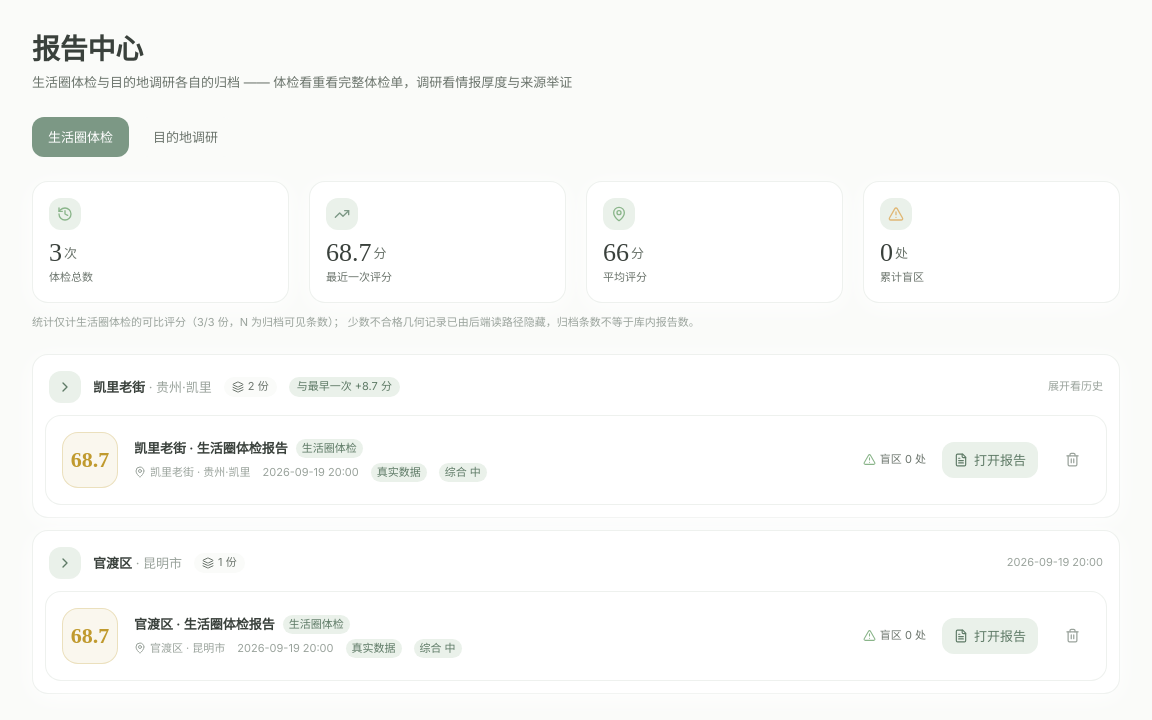
Test case: 报告中心 · tab 条 › 切到调研 tab → 出该屏独有内容，且生活圈一行都不剩（两屏不共用一份 records）
Expected: the button "凯里老街 · 生活圈体检报告" is shown, [134, 438, 288, 459]
Click the tab "目的地调研".
click(186, 137)  # box [137, 117, 234, 157]
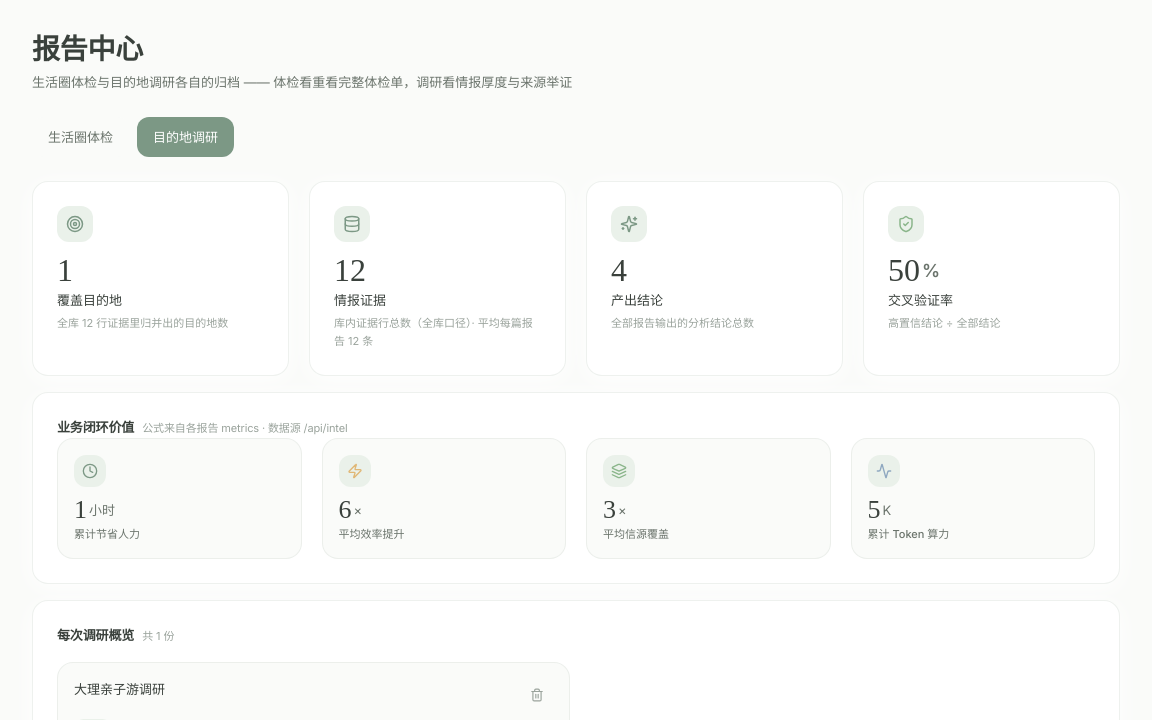
Expected: the heading "每次调研概览" is shown, [57, 627, 134, 643]
Expected: the link "大理亲子游调研" is shown, [74, 679, 165, 700]
Expected: the button "凯里老街 · 生活圈体检报告" is gone
